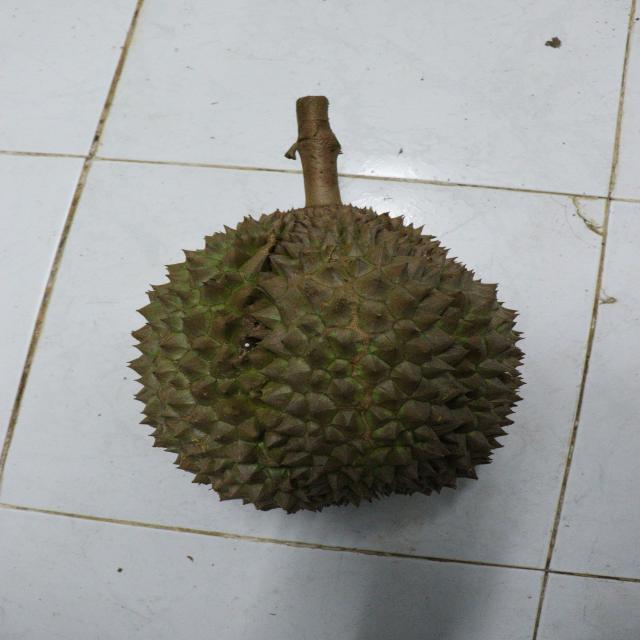mature: (127, 197, 535, 514)
